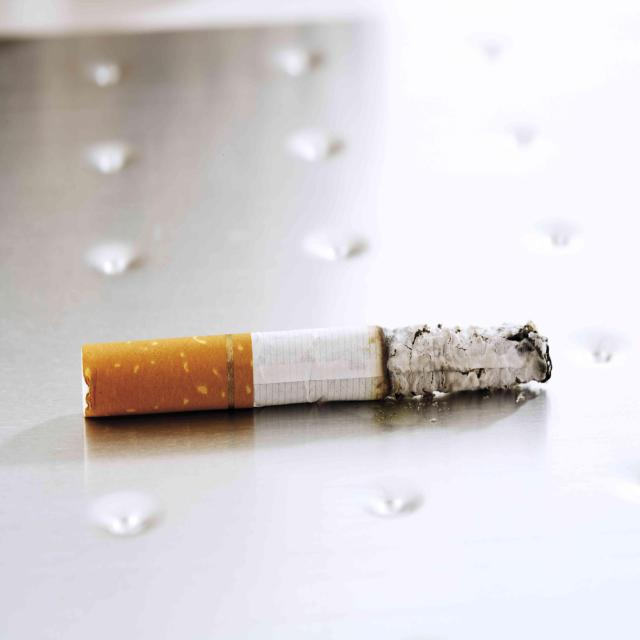cigarette: (82, 326, 550, 417)
